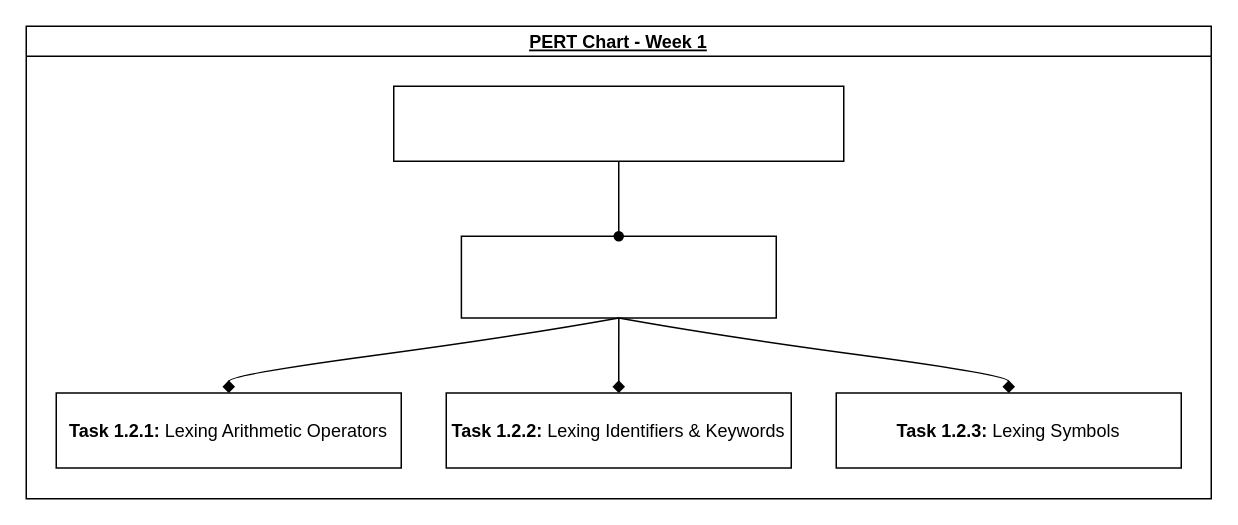
Some shapes in this 1238 by 525 pixel diagram are drawn without their labels. The centre of each missing label's shape, as x and y in pixels:
"Task 1.1: Studying about Transpiler Architecture" goes at (x=618, y=123).
"Task 1.2: Implementing Basic Lexer" goes at (x=618, y=276).
